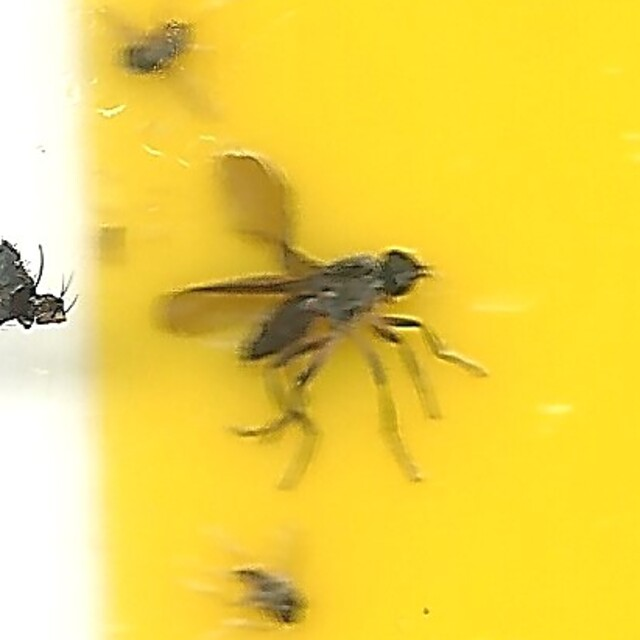Brachycera: (156, 150, 484, 490)
